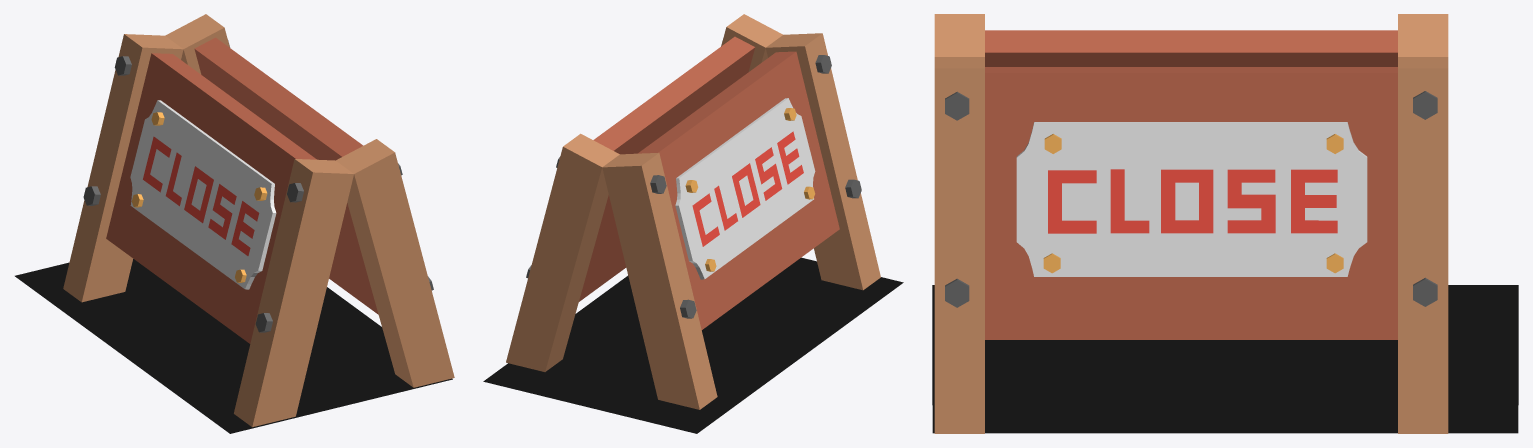
Rendered from close.FBX.
3 views of the same model, side by side, from view 1: azimuth 30°, elevation 25°; view 2: azimuth 150°, elevation 25°; view 3: azimuth 270°, elevation 25° (orthographic). The views are drawn at different scales.
Visible parts, largest first — view 1: close; view 2: close; view 3: close.
Boxes of the visible parts, <box> form: close: <box>15,14,454,433</box>; close: <box>483,14,903,433</box>; close: <box>932,14,1518,433</box>.
Bounding box in the file's own units: 530 × 540 × 880.
